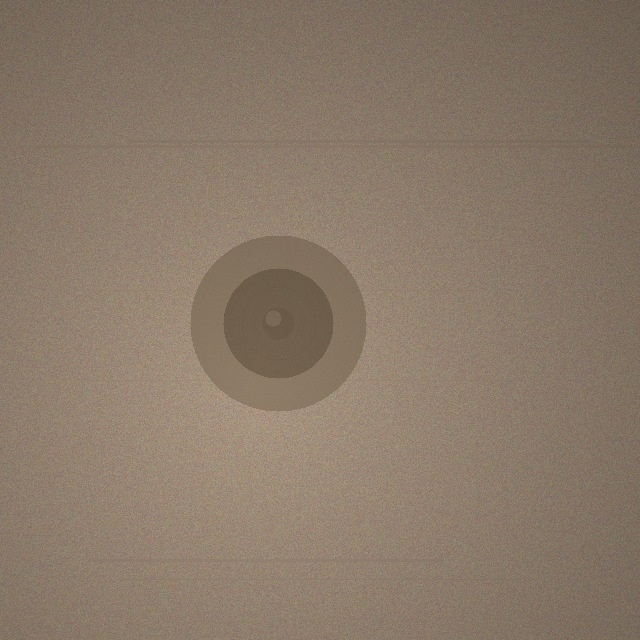good: (190, 235, 366, 411)
